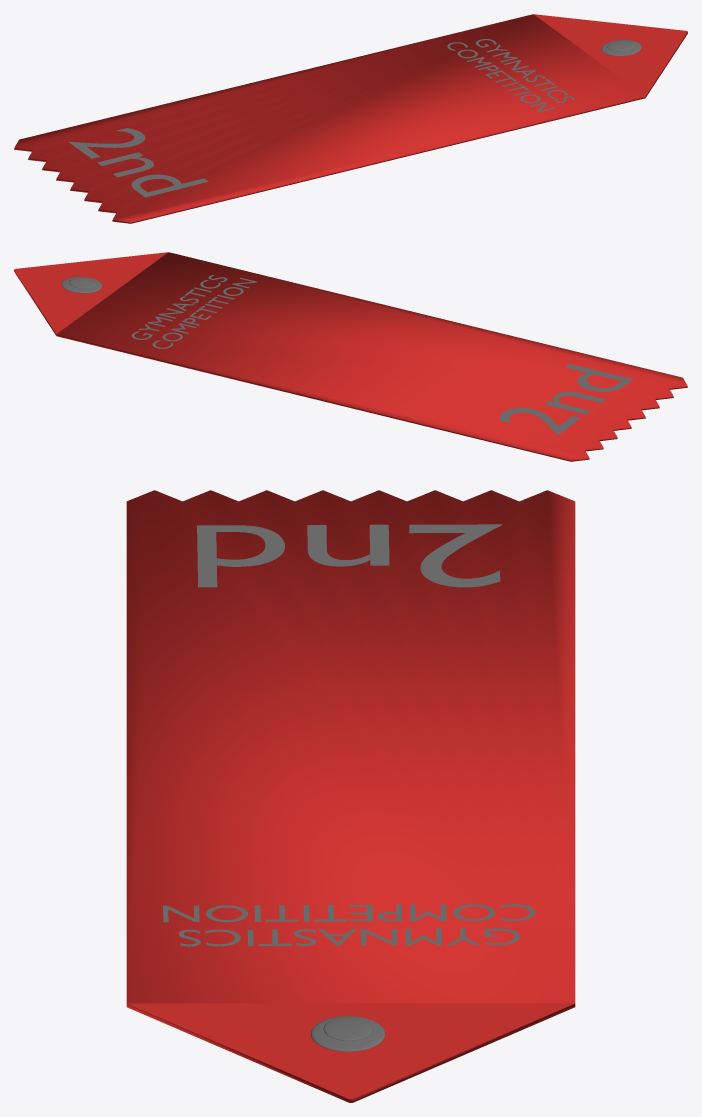
The model's file is ribbon.fbx.
3 views of the same model, one above another, from view 1: azimuth 30°, elevation 25°; view 2: azimuth 150°, elevation 25°; view 3: azimuth 270°, elevation 25° (orthographic). The views are drawn at different scales.
Parts seen in each view (by area): view 1: ribbon, second place, competition, pin; view 2: ribbon, second place, competition, pin; view 3: ribbon, second place, competition, pin.
Part boxes in pixels (box(x1,y1,x2,y2)): ribbon: box(14, 14, 687, 223); second place: box(69, 128, 208, 197); competition: box(447, 39, 574, 112); pin: box(601, 40, 641, 56); ribbon: box(14, 252, 687, 461); second place: box(499, 364, 632, 434); competition: box(131, 275, 257, 348); pin: box(61, 277, 102, 293); ribbon: box(126, 490, 575, 1102); second place: box(197, 524, 502, 587); competition: box(163, 904, 535, 946); pin: box(311, 1016, 385, 1051).
Bounding box in the file's own units: 0.4936 × 0.00421 × 0.1536.
